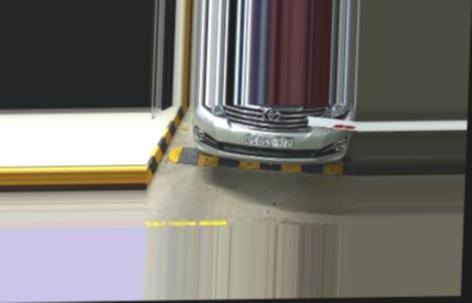License_Plate: (244, 134, 294, 148)
